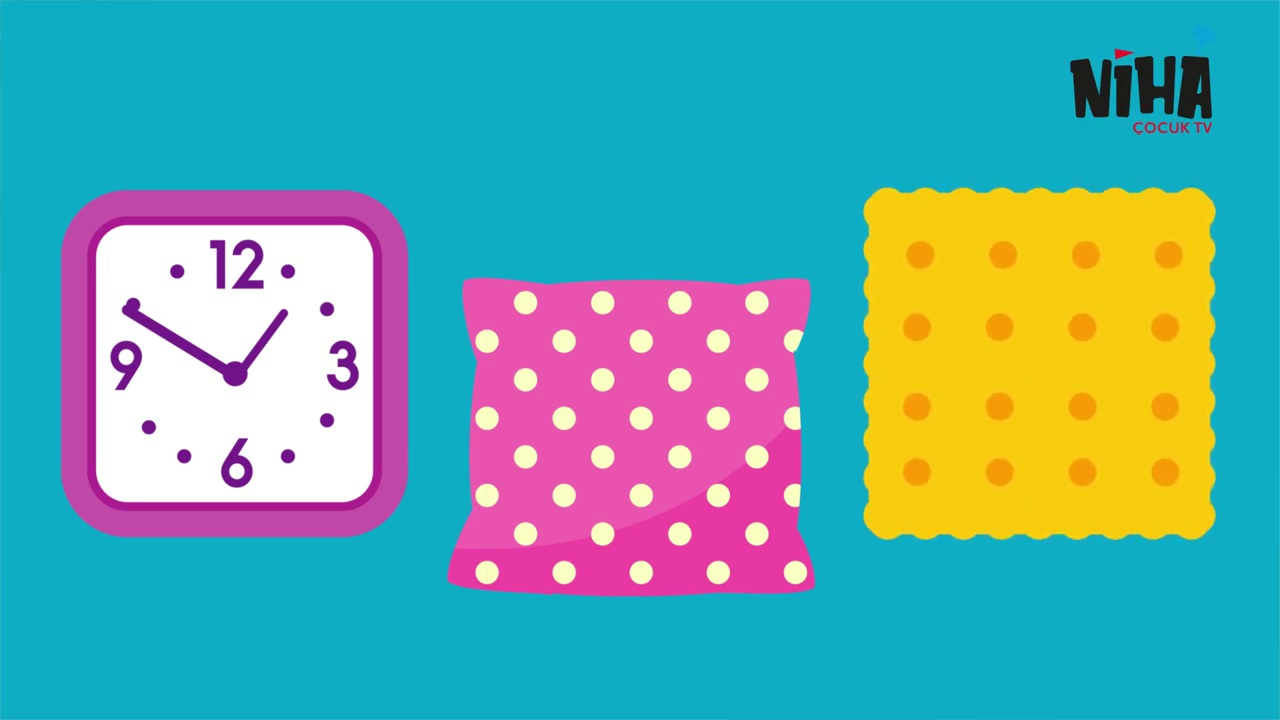kare: (853, 182, 1238, 554), (52, 182, 414, 547), (445, 277, 827, 609)
